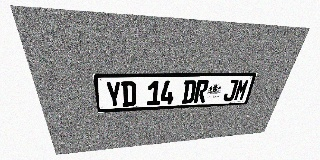1: (147, 81, 161, 105)
4: (160, 80, 175, 105)
D: (121, 81, 136, 107), (181, 80, 197, 104)
J: (222, 79, 239, 101)
M: (233, 79, 250, 101)
R: (193, 80, 209, 103)
Y: (105, 81, 122, 107)
